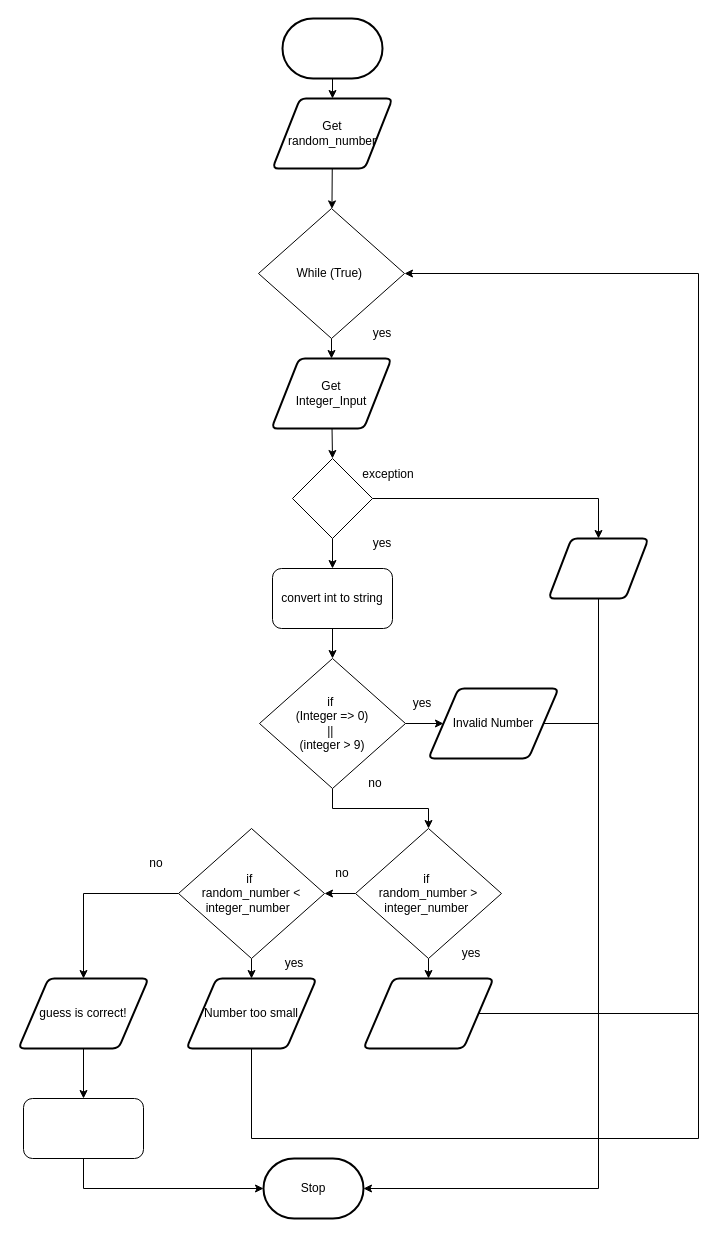
Some shapes in this 724 by 1236 pixel diagram are drawn without their labels. The shapes that lost their labels are listed below. From the top down, each one's centre as x and y in pixels, then its label:
At point 332,48: "Start".
At point 332,498: "Try".
At point 598,568: "Invalid Input".
At point 428,1013: "Number too big".
At point 83,1128: "break".
